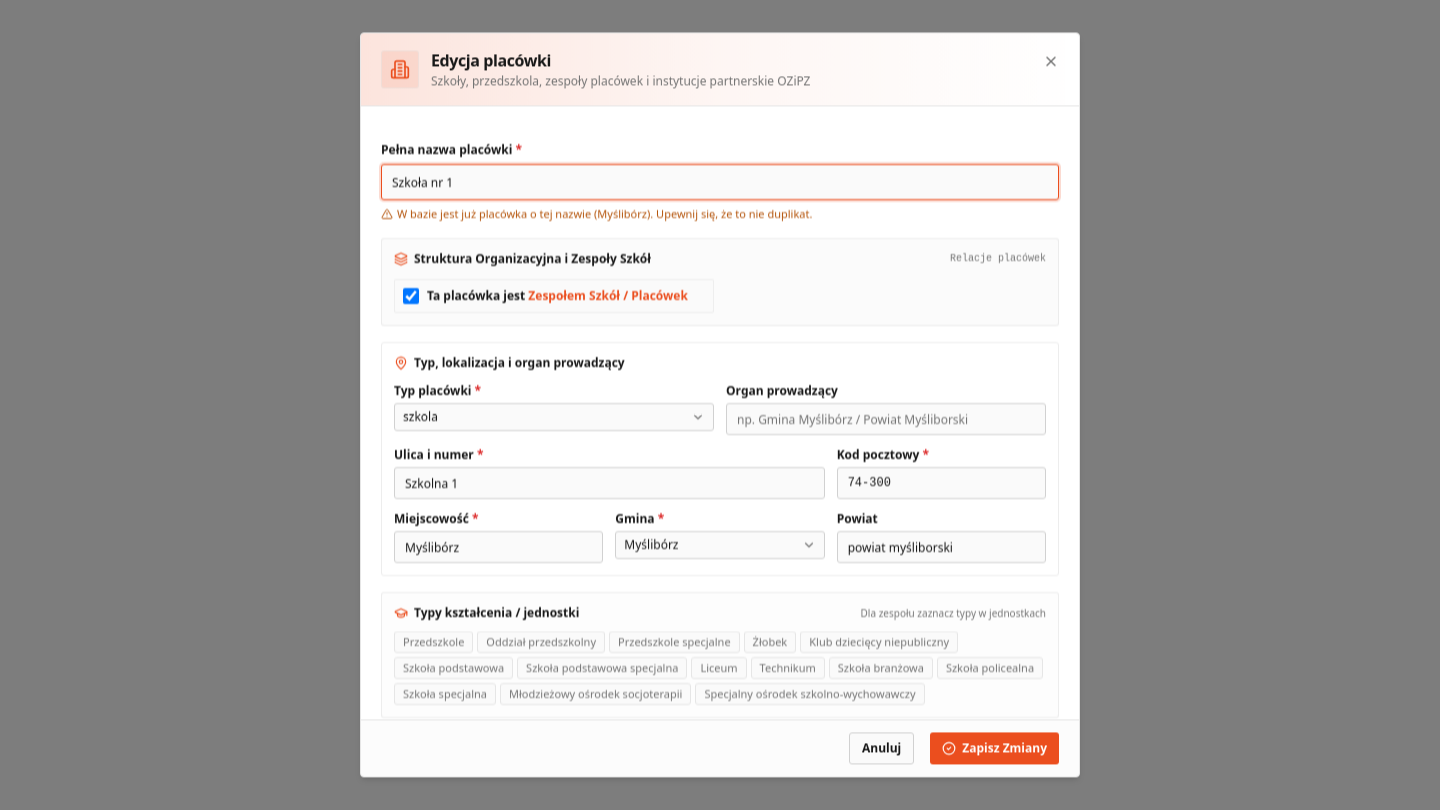
it: does not turn a school complex into a standalone school while it has children
The width and height of the screenshot is (1440, 810).
Click the checkbox labelled "Ta placówka jest Zespołem Szkół / Placówek": (411, 296) [403,288,419,304]
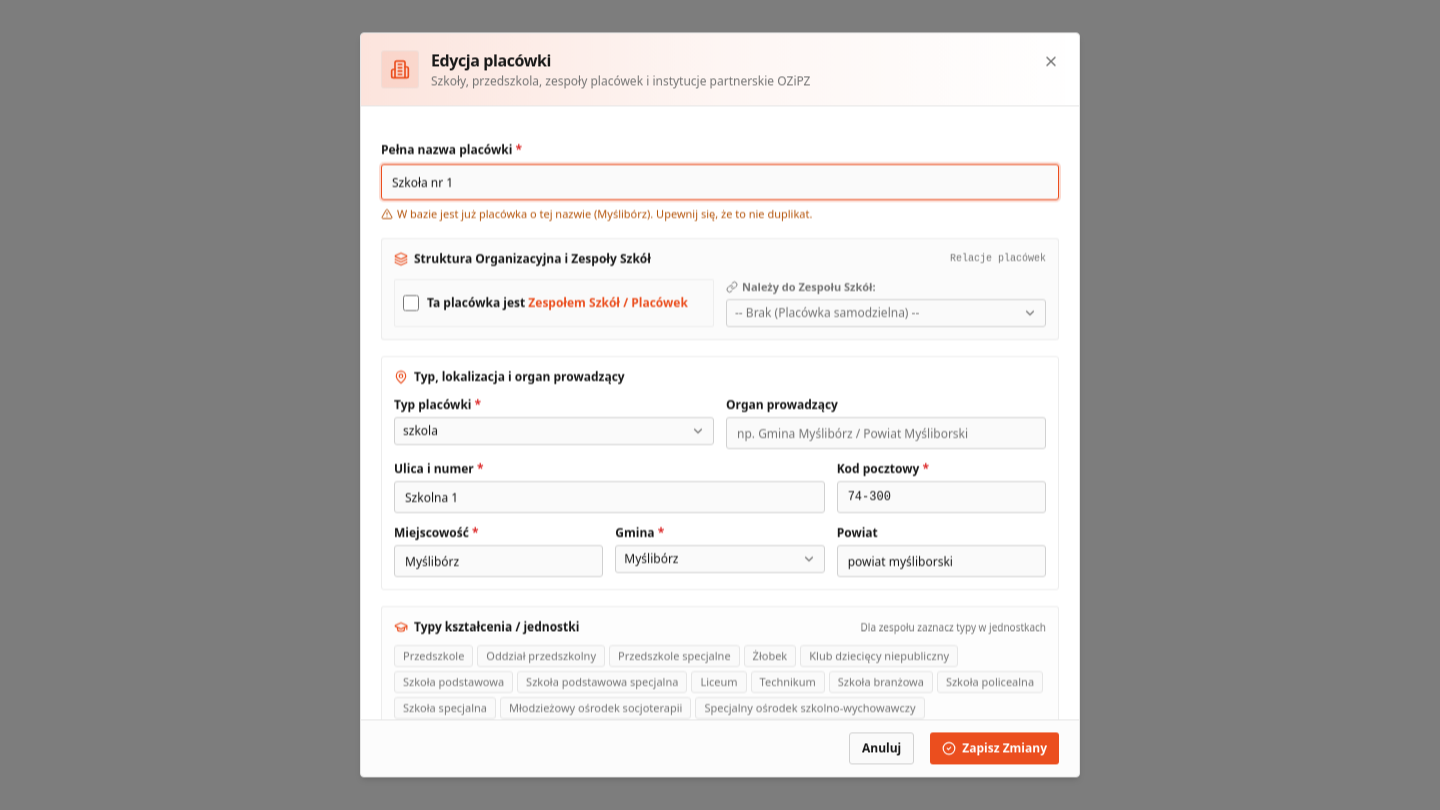
Click the button "Zapisz Zmiany": (995, 749) [930,733,1059,765]
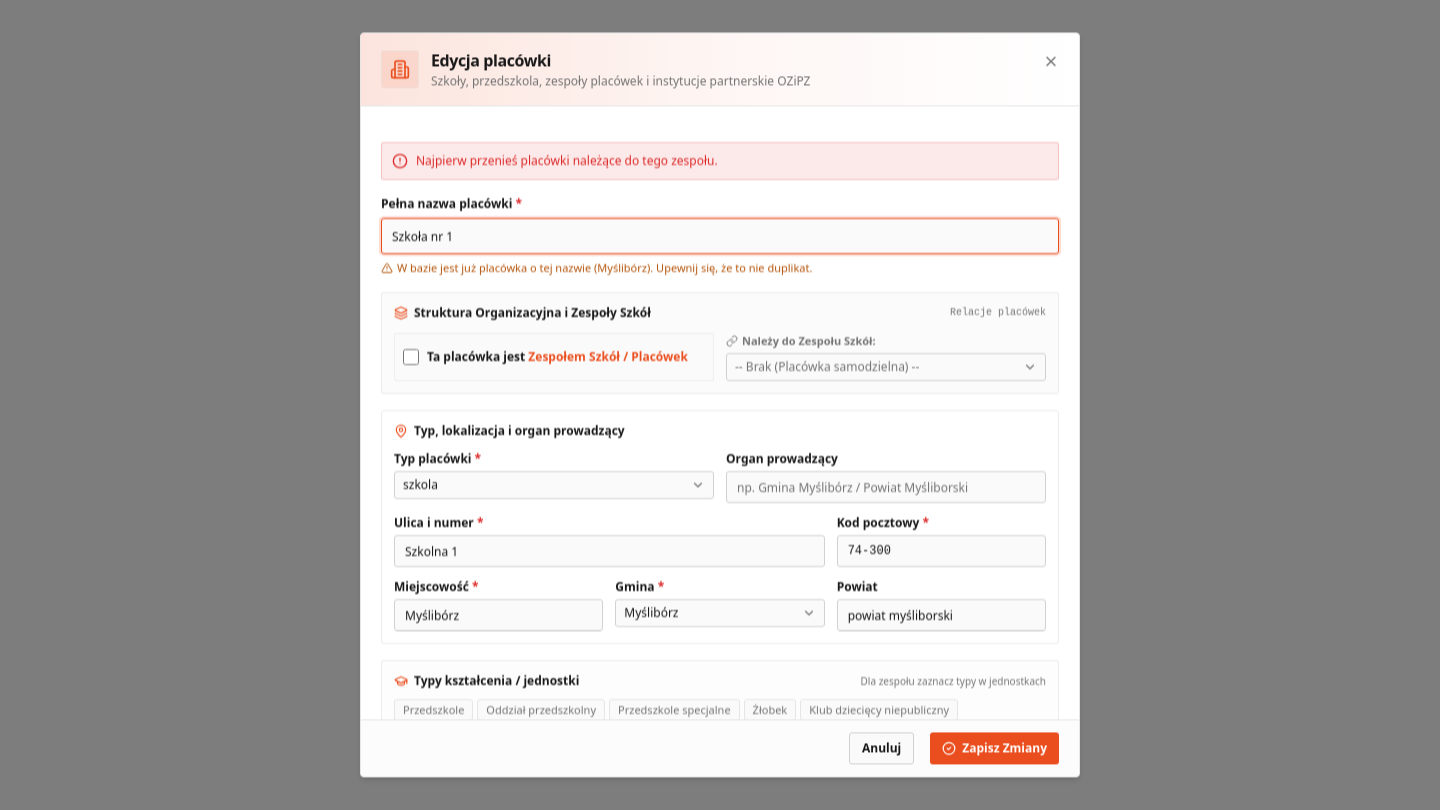
Result: the text "Najpierw przenieś placówki należące do tego zespołu." is shown at [416,153,718,169]
